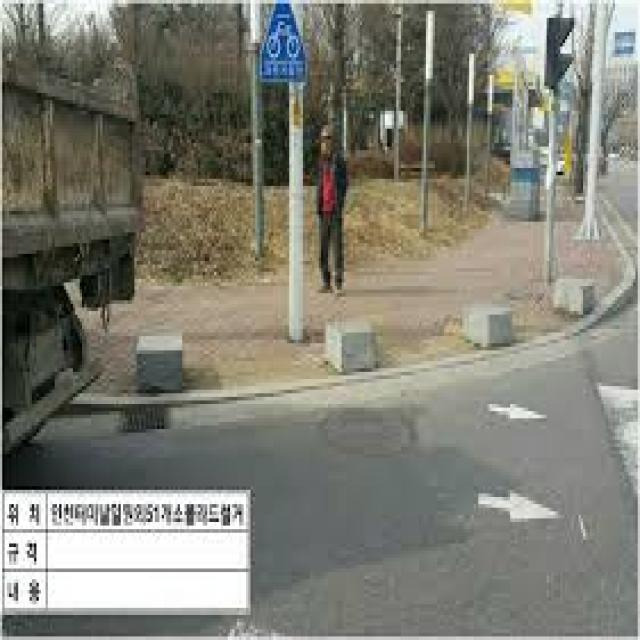bollard: (131, 322, 188, 398), (321, 308, 383, 375), (456, 296, 520, 356), (548, 260, 604, 326)
